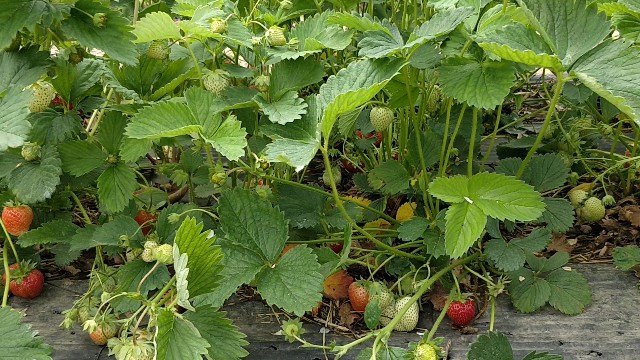strawberry: (4, 258, 47, 300), (443, 294, 477, 328), (130, 207, 161, 235)
